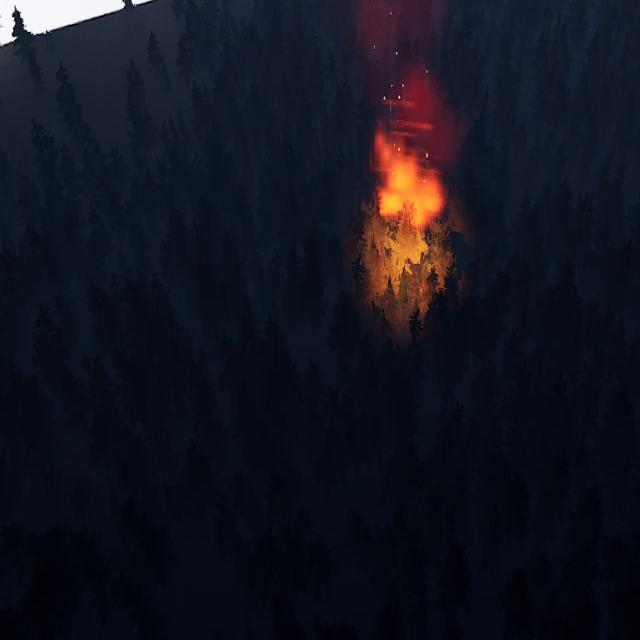fire: (372, 121, 447, 232)
smoke: (349, 1, 462, 158)
